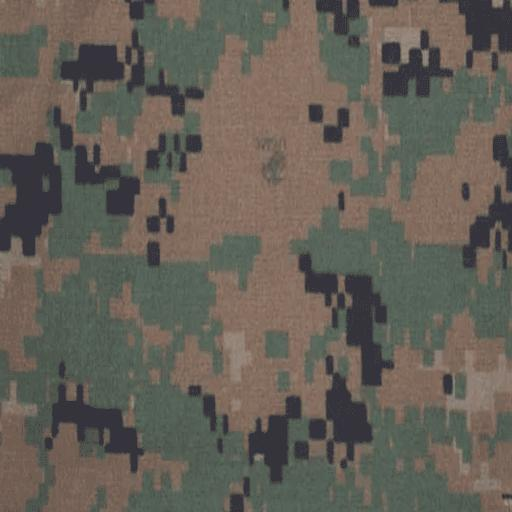korea army: (0, 0, 510, 511)
